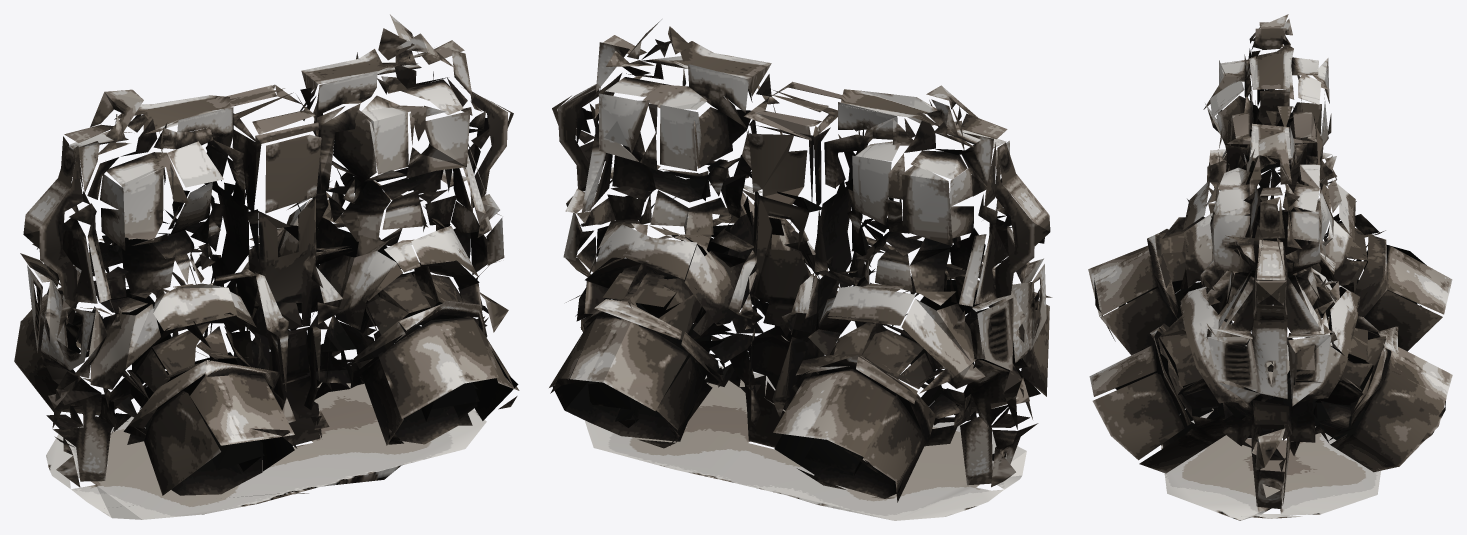
File: mo_jumpjets.glb
3 renders of one model, left to right at view 1: azimuth 30°, elevation 25°; view 2: azimuth 150°, elevation 25°; view 3: azimuth 270°, elevation 25°, orthographic. The views are drawn at different scales.
Visible parts, largest first — view 1: mo_jumpjets; view 2: mo_jumpjets; view 3: mo_jumpjets.
Boxes of the visible parts, left/top/right/bottom form: mo_jumpjets: left=14, top=14, right=519, bottom=519; mo_jumpjets: left=549, top=19, right=1052, bottom=520; mo_jumpjets: left=1088, top=14, right=1452, bottom=520.
Bounding box in the file's own units: 0.2 × 0.1564 × 0.1408.
Materials: 1 (1 with a texture image).
